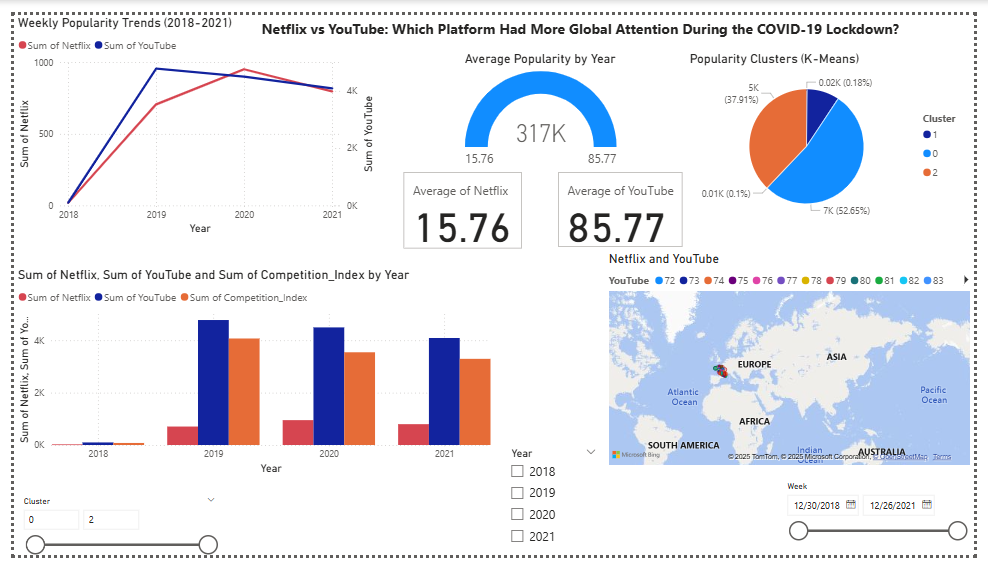

The page's visual inventory and layout, read from the dashboard file:
{"tool":"powerbi","page":{"name":"DASHBOARD","canvas":[1280,720],"ordinal":0},"visuals":[{"type":"lineChart","title":"Weekly Popularity Trends (2018-2021)","fields":{"Category":["netflix_youtube_analyzed.Week.Variation.Date Hierarchy.Year","netflix_youtube_analyzed.Week.Variation.Date Hierarchy.Quarter","netflix_youtube_analyzed.Week.Variation.Date Hierarchy.Month","netflix_youtube_analyzed.Week.Variation.Date Hierarchy.Day"],"Y":["Sum(netflix_youtube_analyzed.Netflix)"],"Y2":["Sum(netflix_youtube_analyzed.YouTube)"]},"box":[0,0,483.8,296.7],"z":0},{"type":"pieChart","title":"Popularity Clusters (K-Means)","fields":{"Y":["Avg(netflix_youtube_analyzed.Netflix)","Sum(netflix_youtube_analyzed.YouTube)"],"Category":["netflix_youtube_analyzed.Cluster"]},"box":[895.8,47.2,383.6,234.3],"z":1000},{"type":"gauge","title":"Average Popularity by Year","fields":{"Y":["Sum(netflix_youtube_analyzed.Year)"],"MinValue":["Avg(netflix_youtube_analyzed.Netflix)"],"MaxValue":["Avg(netflix_youtube_analyzed.YouTube)"]},"box":[596,48,212,166],"z":2000},{"type":"clusteredColumnChart","fields":{"Category":["netflix_youtube_analyzed.Week.Variation.Date Hierarchy.Year","netflix_youtube_analyzed.Week.Variation.Date Hierarchy.Quarter","netflix_youtube_analyzed.Week.Variation.Date Hierarchy.Month","netflix_youtube_analyzed.Week.Variation.Date Hierarchy.Day"],"Y":["Sum(netflix_youtube_analyzed.Netflix)","Sum(netflix_youtube_analyzed.YouTube)","Sum(netflix_youtube_analyzed.Competition_Index)"]},"box":[0,336.7,640,280],"z":3000},{"type":"slicer","fields":{"Values":["netflix_youtube_analyzed.Week.Variation.Date Hierarchy.Year"]},"box":[650,570,138.3,150],"z":4000},{"type":"map","fields":{"Category":["netflix_youtube_analyzed.Netflix"],"Series":["netflix_youtube_analyzed.YouTube"]},"box":[788.3,313.3,491.7,291.7],"z":5000},{"type":"slicer","fields":{"Values":["netflix_youtube_analyzed.Cluster"]},"box":[0,635,280,85],"z":6000},{"type":"slicer","fields":{"Values":["netflix_youtube_analyzed.Week"]},"box":[1018.3,616.7,261.7,103.3],"z":7000},{"type":"cardVisual","fields":{"Data":["Avg(netflix_youtube_analyzed.YouTube)"]},"box":[720,204,176,110],"z":8000},{"type":"cardVisual","fields":{"Data":["Avg(netflix_youtube_analyzed.Netflix)"]},"box":[514,204,168,112],"z":9000},{"type":"textbox","box":[320,0,870,48],"z":10000}]}

Visuals, with their boxes in screenshot pixels (x1, y1, x2, y2), scaled from the page's 1280x720 canvas onto the 988x568 screenshot:
"Weekly Popularity Trends (2018-2021)" lineChart: (0,0,373,234)
"Popularity Clusters (K-Means)" pieChart: (691,37,987,222)
"Average Popularity by Year" gauge: (460,38,624,169)
clusteredColumnChart - netflix_youtube_analyzed.Week.Variation.Date Hierarchy.Year x netflix_youtube_analyzed.Week.Variation.Date Hierarchy.Quarter: (0,266,494,487)
slicer - netflix_youtube_analyzed.Week.Variation.Date Hierarchy.Year: (502,450,608,567)
map - netflix_youtube_analyzed.Netflix x netflix_youtube_analyzed.YouTube: (608,247,987,477)
slicer - netflix_youtube_analyzed.Cluster: (0,501,216,567)
slicer - netflix_youtube_analyzed.Week: (786,487,987,567)
cardVisual - Avg(netflix_youtube_analyzed.YouTube): (556,161,692,248)
cardVisual - Avg(netflix_youtube_analyzed.Netflix): (397,161,526,249)
textbox: (247,0,919,38)
